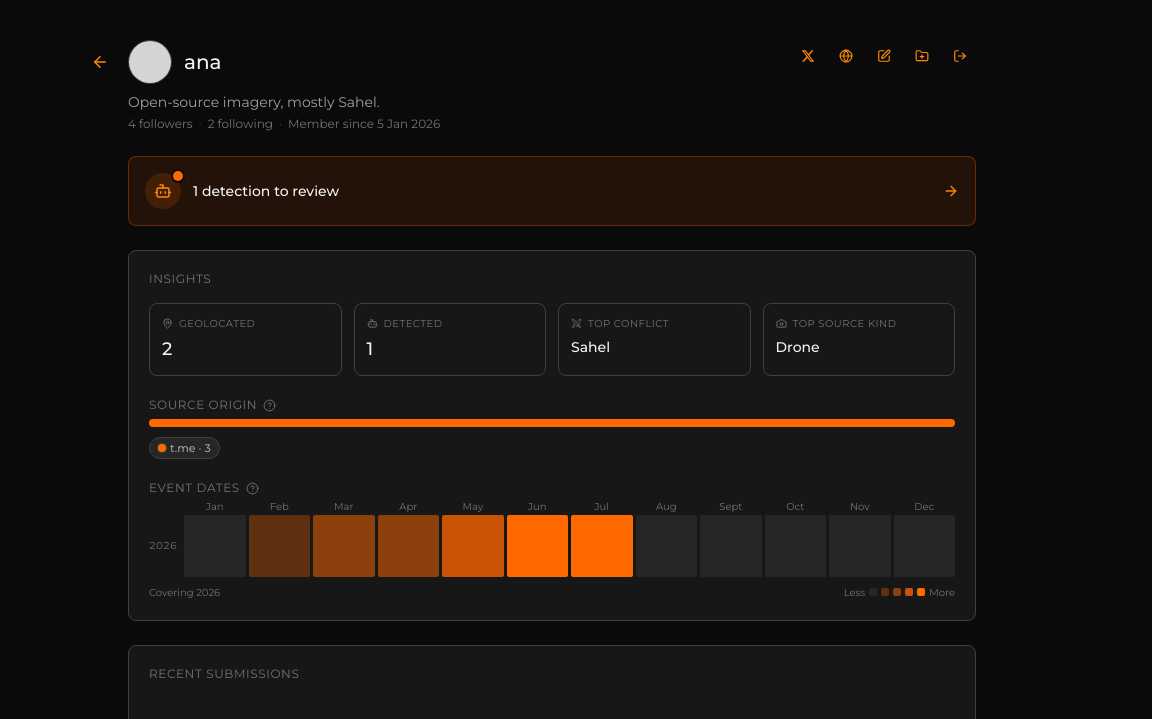
Scenario: public profile edit mode › shows the avatar once in edit mode, in the picker
The image size is (1152, 719).
Expected: the heading "Insights" is shown, [149,271,211,286]
Click the button named "Edit profile".
click(884, 56)  # box [868,40,900,72]
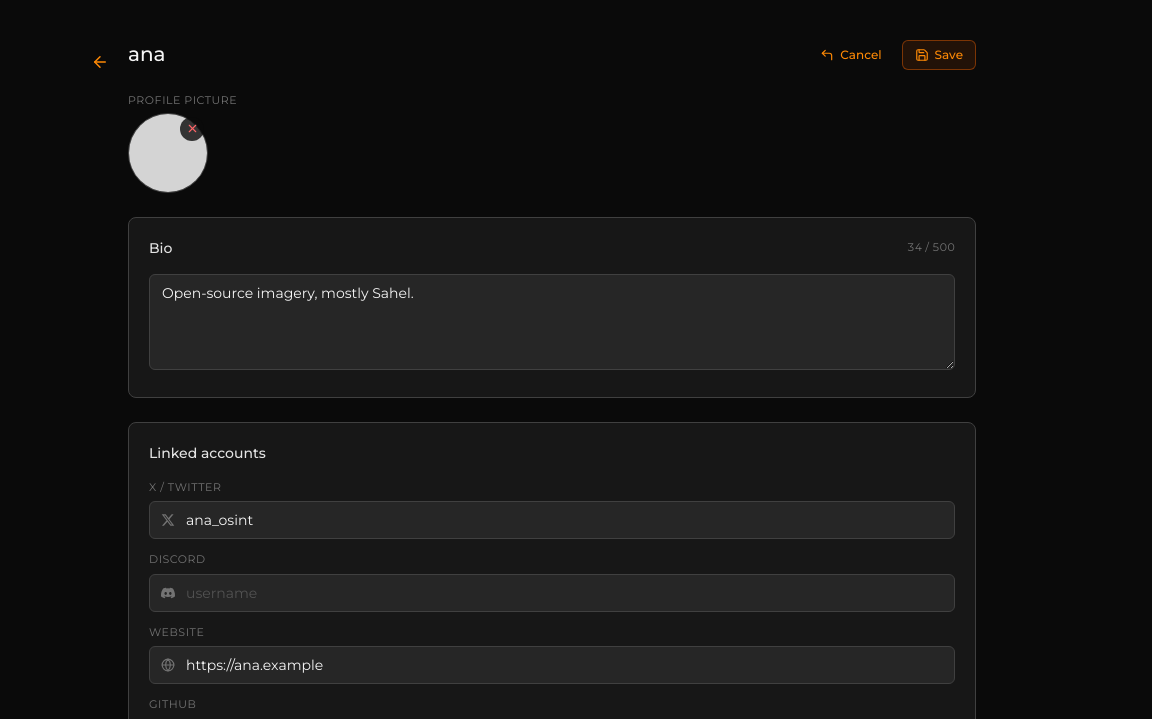
Expected: the text "Profile picture" is shown, [128,93,237,107]
